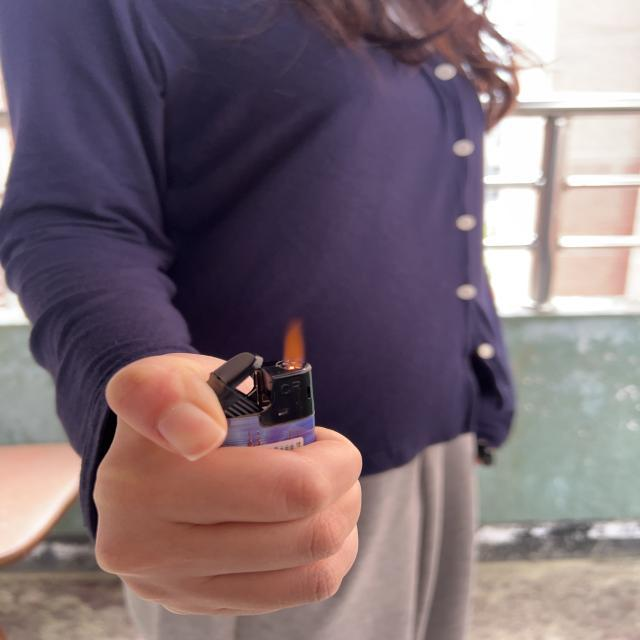fire: (280, 315, 305, 373)
